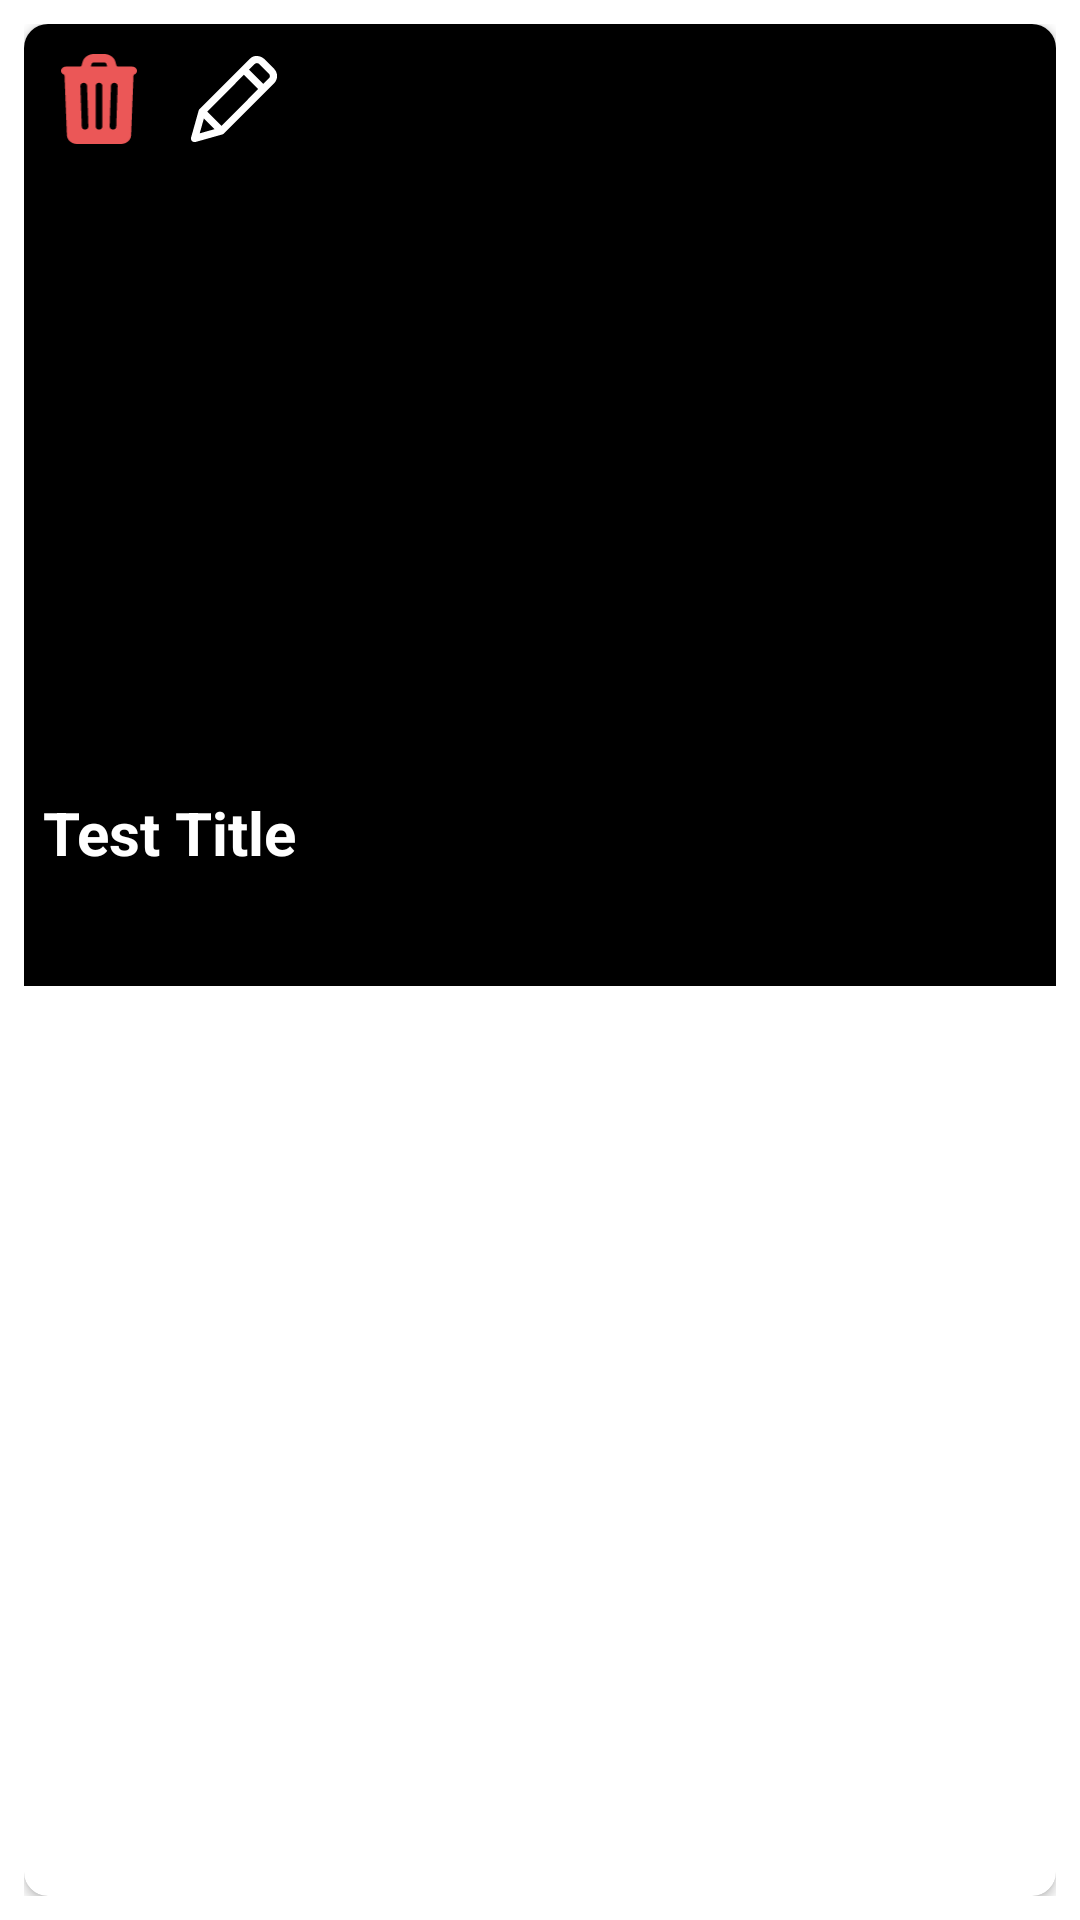

Screen size 1080w x 1920h. Icon name, then its box in pixels as (x1, y1, x2, y2):
delete: (61, 54, 137, 144)
edit: (191, 56, 277, 142)
